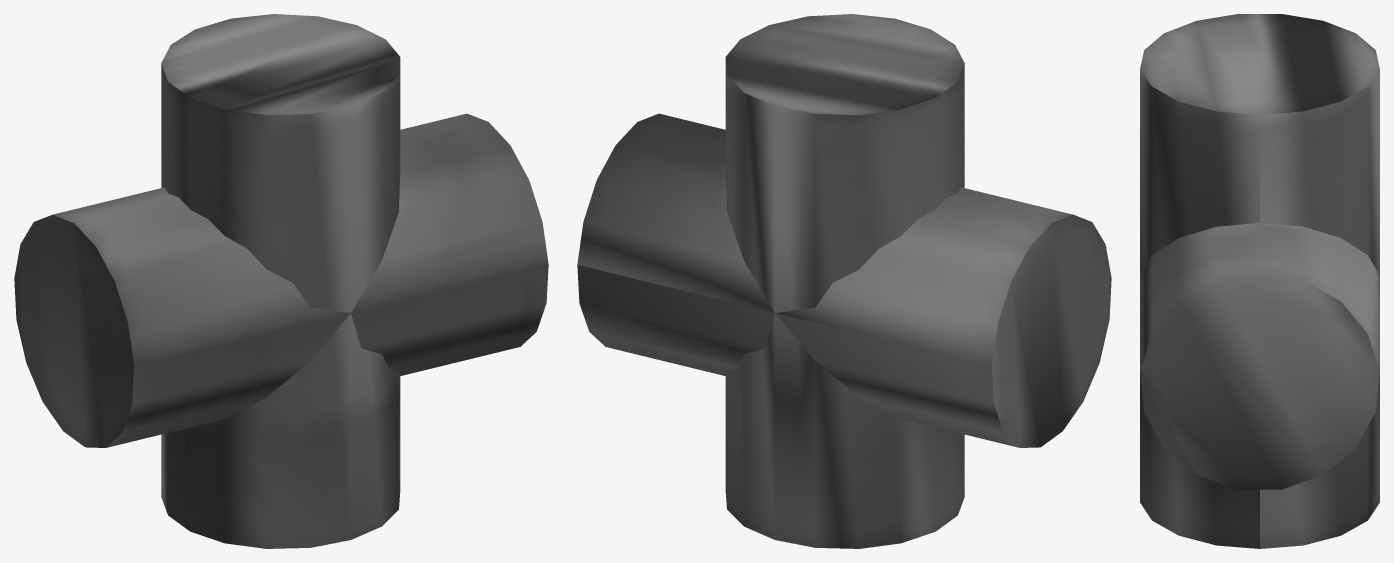
File: l_uglut.dae
The picture shows the model from 3 angles, left to right: view 1: azimuth 30°, elevation 25°; view 2: azimuth 150°, elevation 25°; view 3: azimuth 270°, elevation 25°; orthographic projection.
Parts seen in each view (by area): view 1: p41839_1, p41775_1; view 2: p41839_1, p41775_1; view 3: p41775_1, p41839_1.
Part boxes in pixels (left/top/right/bottom): p41839_1: left=14, top=113, right=548, bottom=447; p41775_1: left=161, top=14, right=400, bottom=548; p41839_1: left=577, top=113, right=1111, bottom=447; p41775_1: left=725, top=14, right=964, bottom=548; p41775_1: left=1140, top=14, right=1379, bottom=548; p41839_1: left=1140, top=223, right=1379, bottom=489.
Bounding box in the file's own units: 0.079 × 0.0395 × 0.079.
